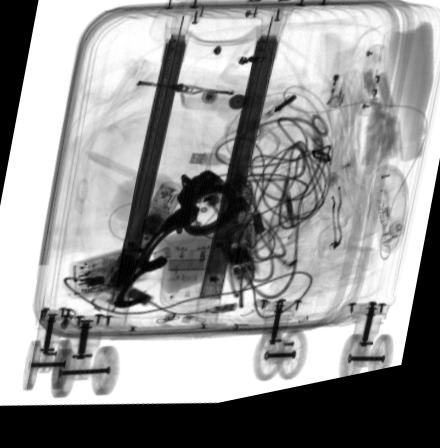Baton: (89, 187, 185, 312)
HandCuffs: (113, 177, 241, 315)
Lighter: (326, 58, 355, 122)
